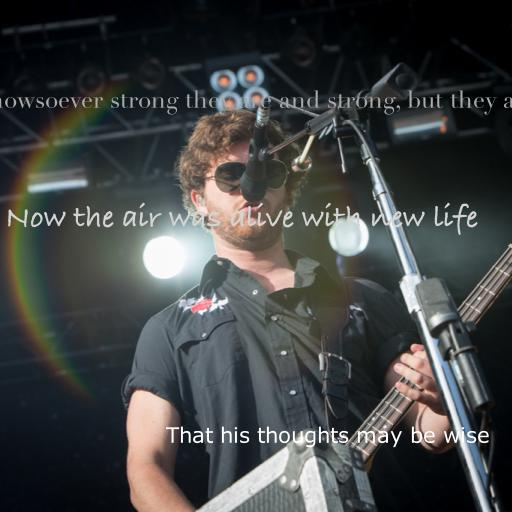Bradley Hand: (4, 202, 478, 236)
Didot: (0, 90, 512, 115)
Verdana: (166, 426, 490, 448)
